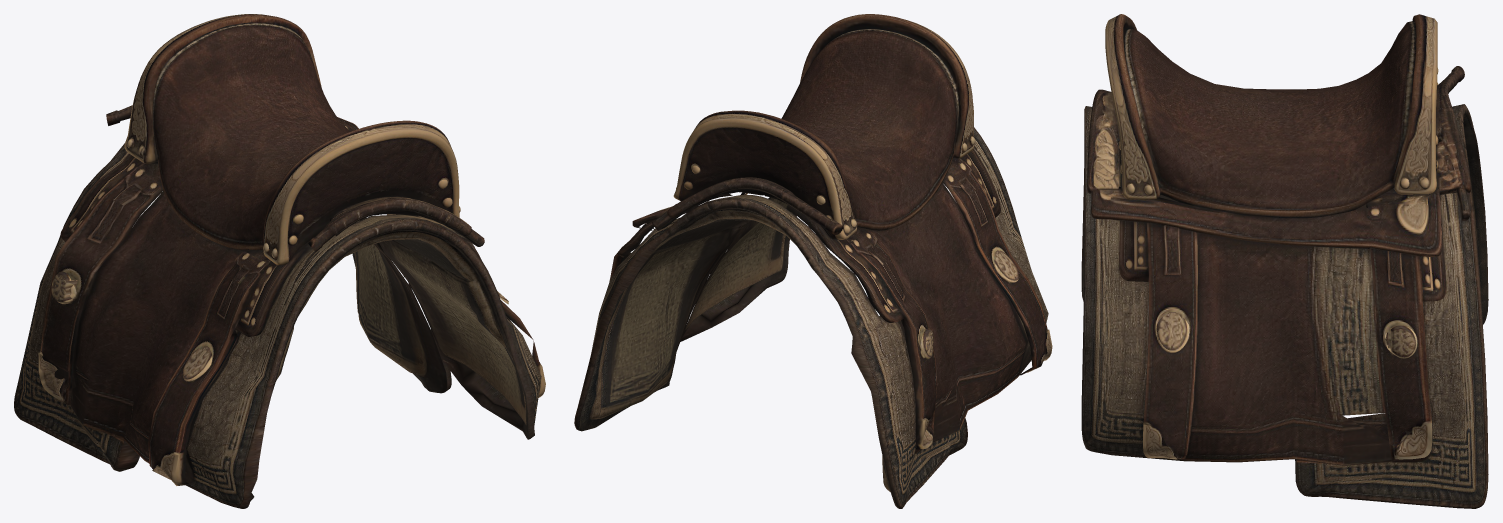
Rendered from saddle.glb.
The picture shows the model from 3 angles, left to right: view 1: azimuth 30°, elevation 25°; view 2: azimuth 150°, elevation 25°; view 3: azimuth 270°, elevation 25°; orthographic projection. The views are drawn at different scales.
Parts seen in each view (by area): view 1: Saddle; view 2: Saddle; view 3: Saddle.
Part boxes in pixels (x1,y1,x2,y2): Saddle: [14, 14, 545, 508]; Saddle: [574, 14, 1052, 508]; Saddle: [1081, 14, 1488, 508].
Size of the model in its own units: 0.7605 by 0.7225 by 0.6798.
1 material, 1 textured.
